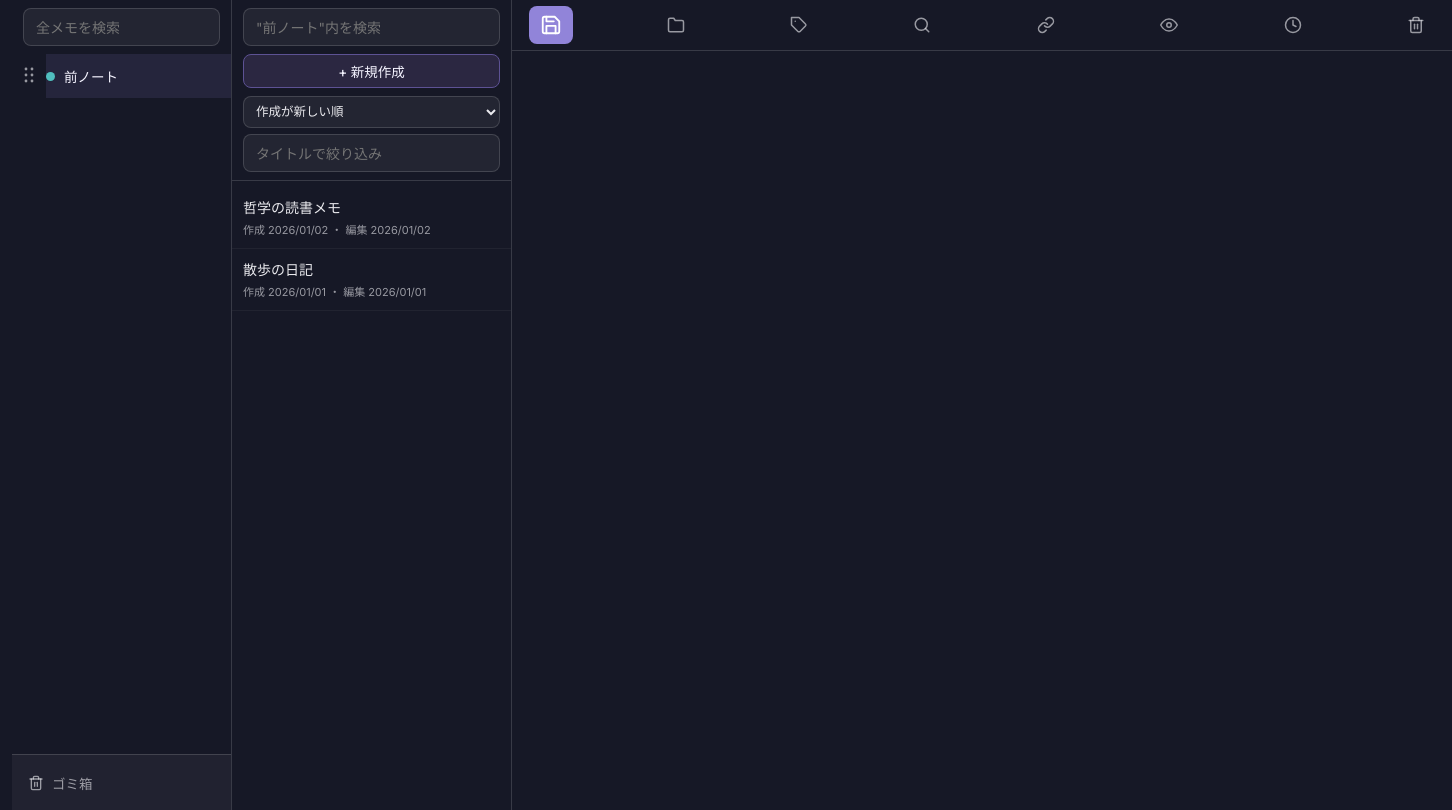
it: search integration › filters visible notes based on search query without freezing
The image size is (1452, 810).
Expected: the text box named "本文" is empty, [529, 67, 1435, 793]
検索窓に「哲学」を入力
Step 1. Type "哲学" into the search field with placeholder "\"前ノート\"内を検索" → (372, 27), box [243, 8, 500, 46]
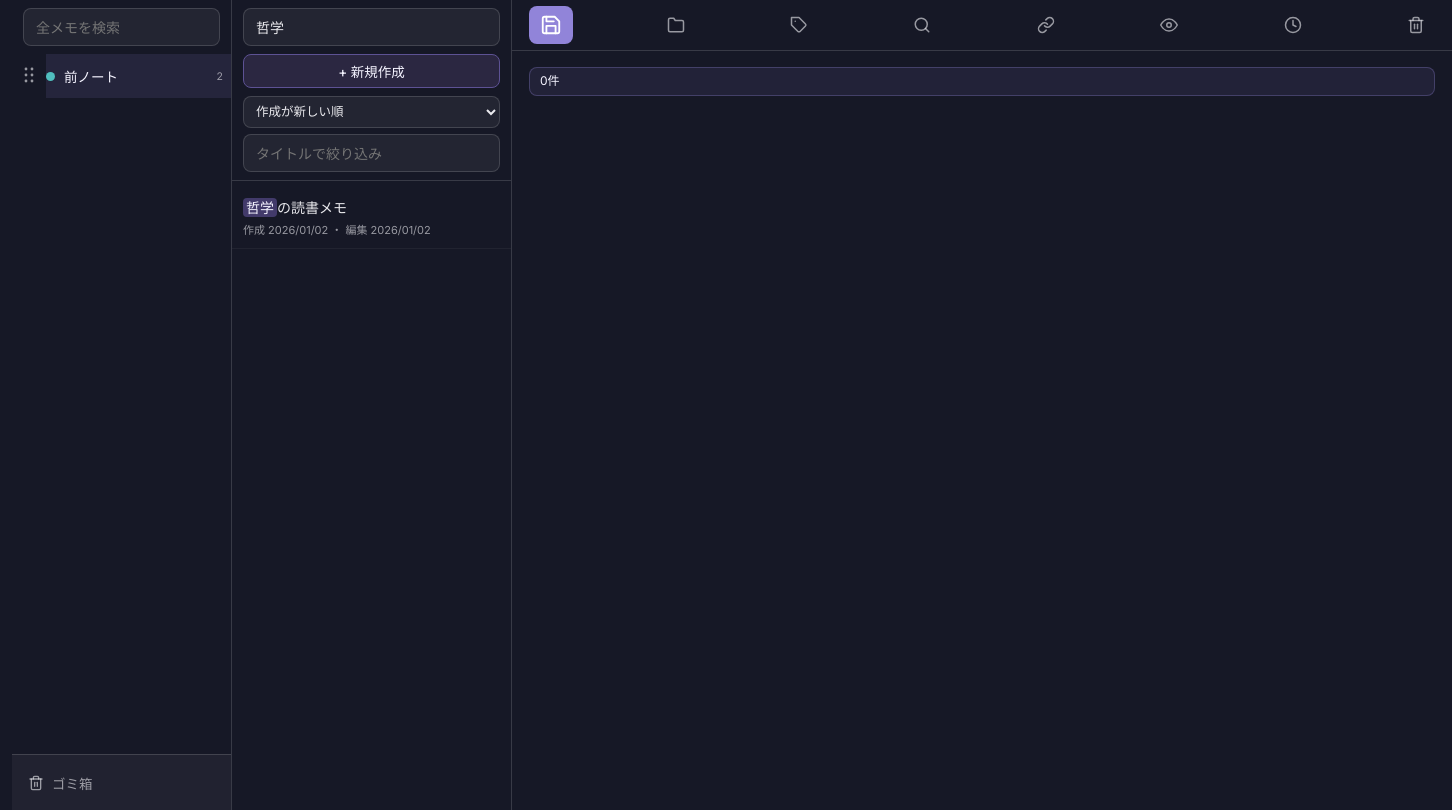
Expected: the text "哲学" is shown, [243, 198, 277, 217]
Expected: the button "散歩の日記" is gone
読書メモを開いてプレビューに切り替えると、本文中の「哲学」もハイライトされること
Step 2. Click the button "哲学の読書メモ 作成 2026/01/02 ・ 編集 2026/01/02" → (260, 208), box [232, 187, 511, 249]
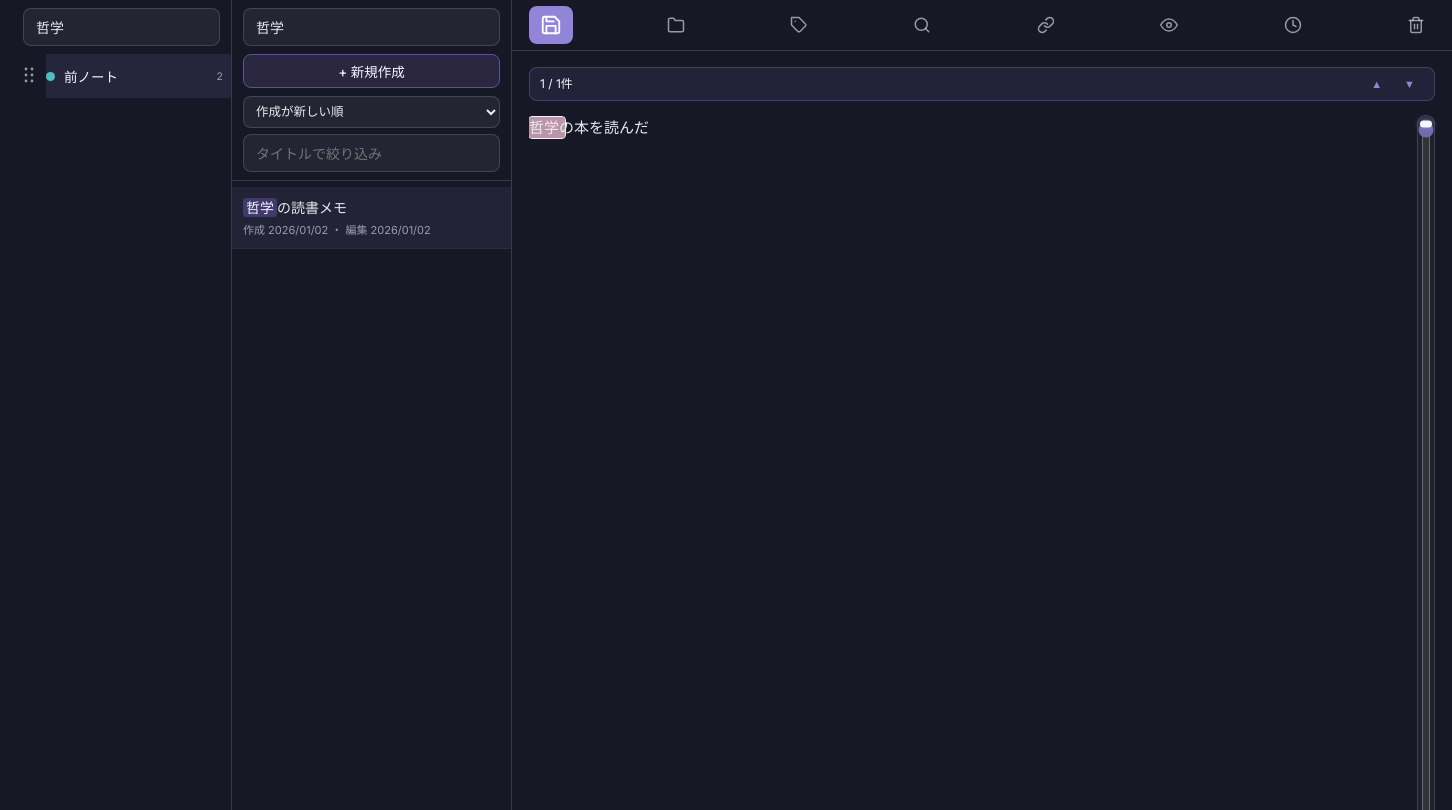
Step 3. Click the button named "プレビュー" → (1169, 25), box [1150, 6, 1188, 44]
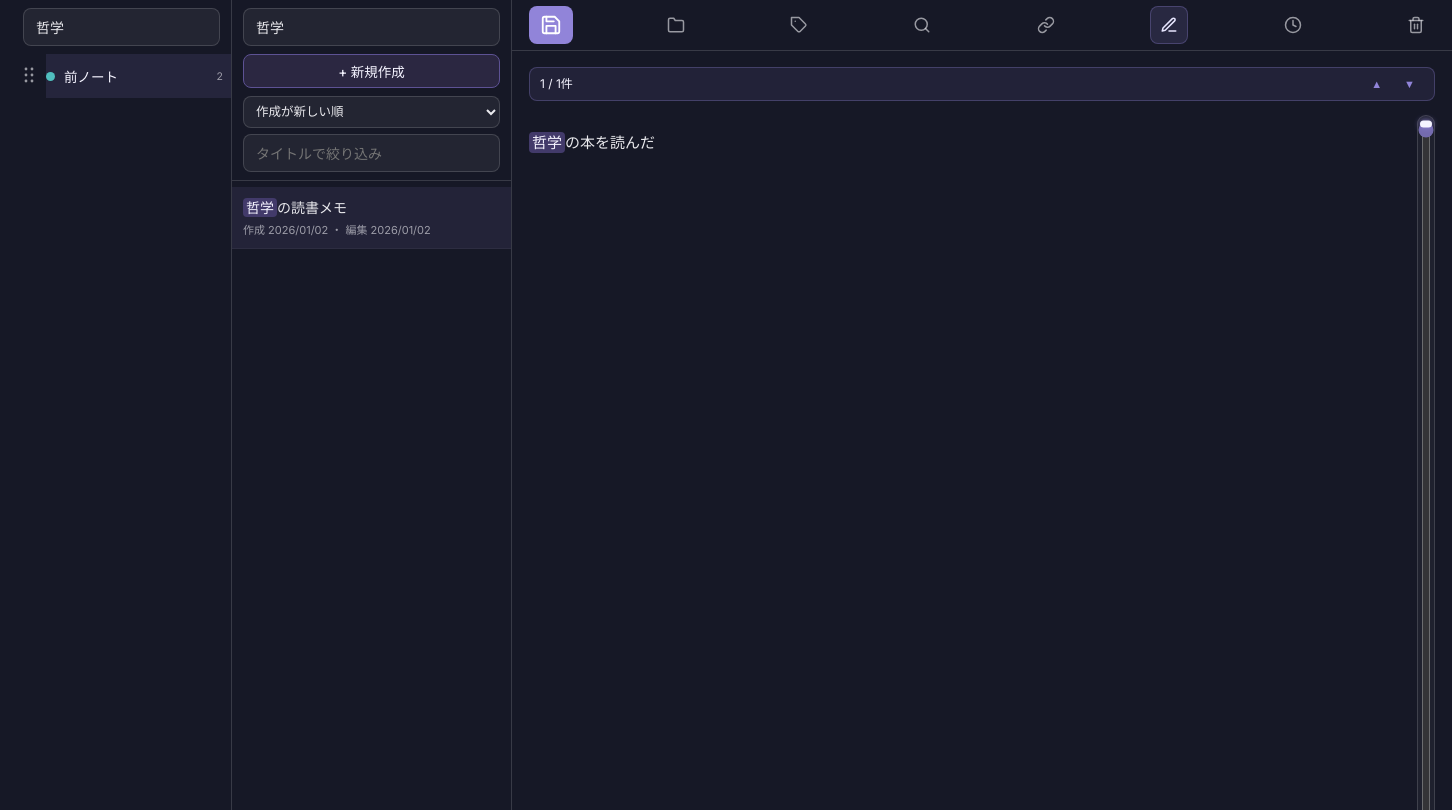
Expected: the text with class "search-highlight" next to "の本を読んだ" is shown, [529, 132, 565, 153]
Expected: the text with class "search-highlight" next to "の本を読んだ" reads "哲学", [532, 133, 562, 152]
検索窓をクリアすると両方表示されること
Step 4. Clear the 2nd search field with placeholder "\"前ノート\"内を検索" → (372, 27), box [243, 8, 500, 46]
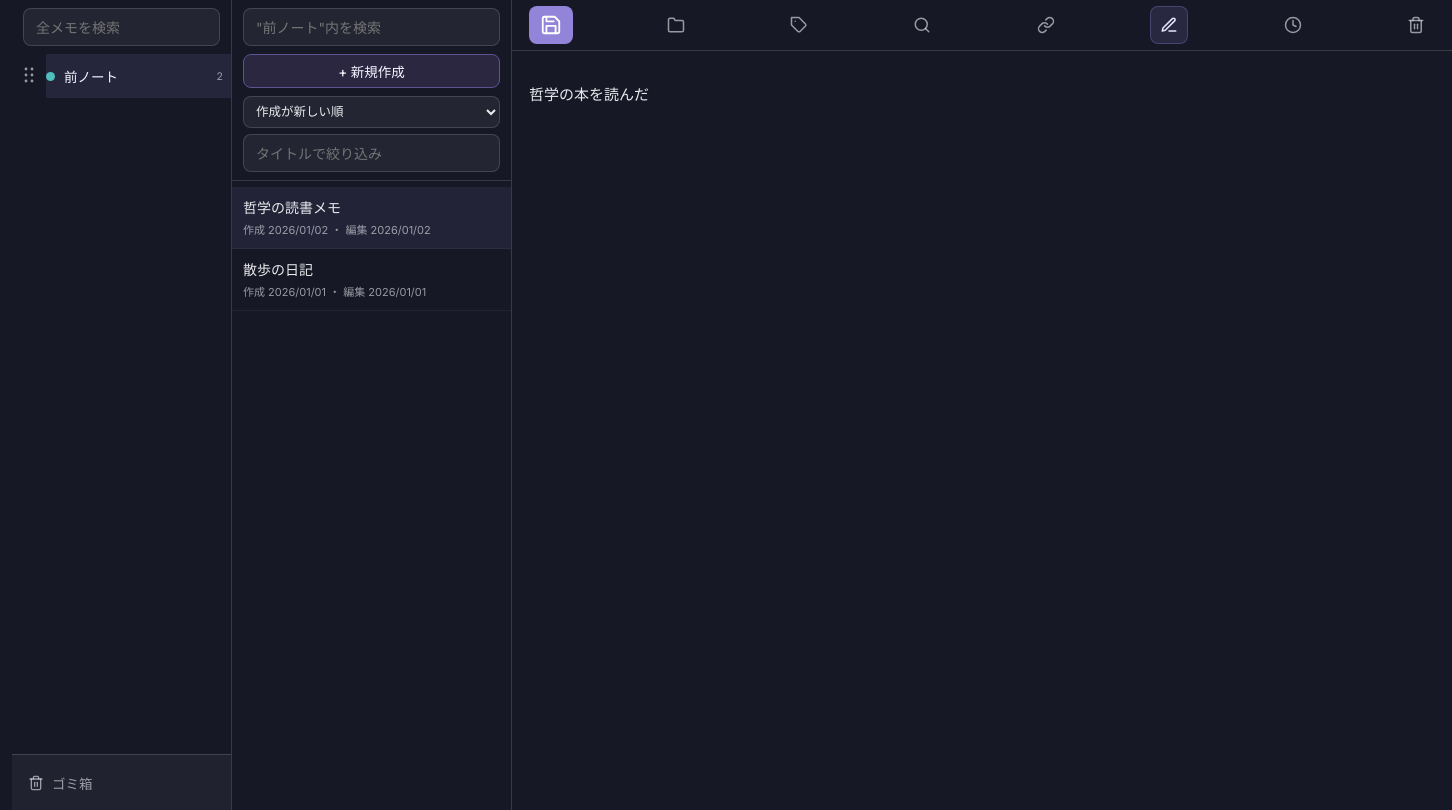
Expected: the button "哲学の読書メモ 作成 2026/01/02 ・ 編集 2026/01/02" is shown, [232, 187, 511, 249]
Expected: the text "散歩の日記" is shown, [243, 261, 313, 278]
